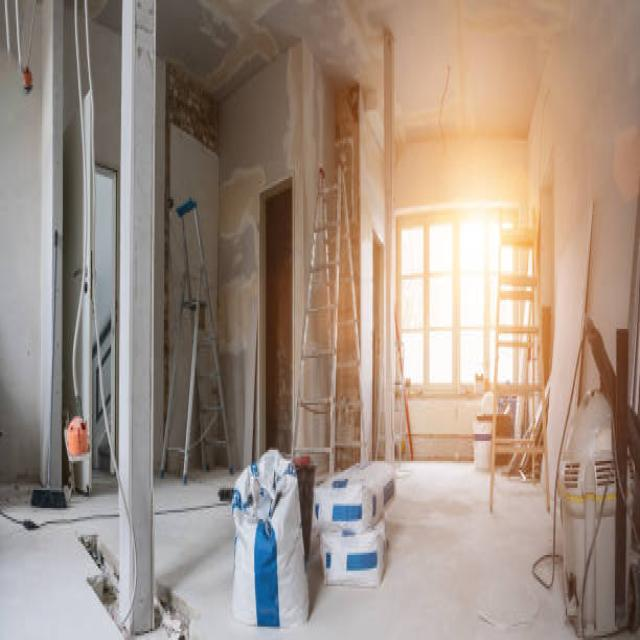floor: (128, 438, 580, 640), (0, 458, 128, 640)
wall: (528, 0, 640, 500), (217, 38, 302, 471), (152, 58, 218, 478), (128, 0, 157, 640), (88, 18, 122, 473), (395, 138, 530, 232), (301, 38, 337, 349), (359, 88, 386, 470), (118, 0, 132, 640), (48, 0, 64, 490), (40, 0, 52, 490), (170, 317, 193, 451), (539, 185, 554, 309), (64, 6, 78, 125), (183, 212, 201, 303), (78, 12, 90, 98), (208, 412, 226, 440), (202, 386, 220, 410), (200, 353, 212, 377), (203, 414, 216, 433)
